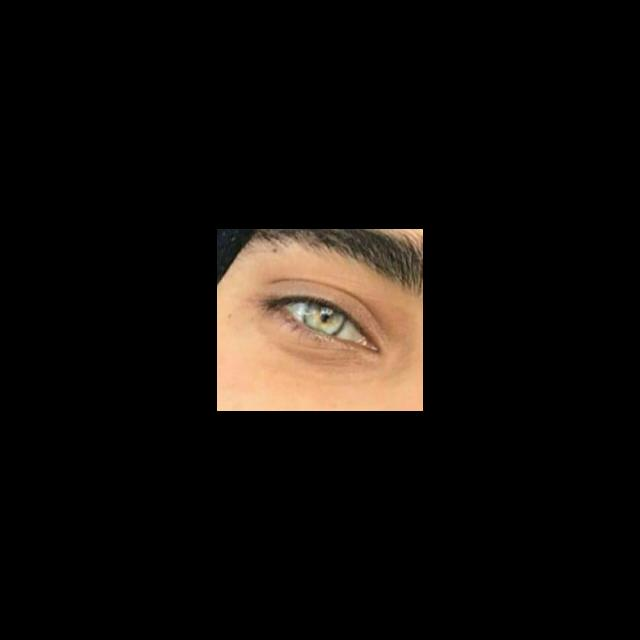eye: (281, 300, 362, 344)
iris: (304, 301, 345, 335)
